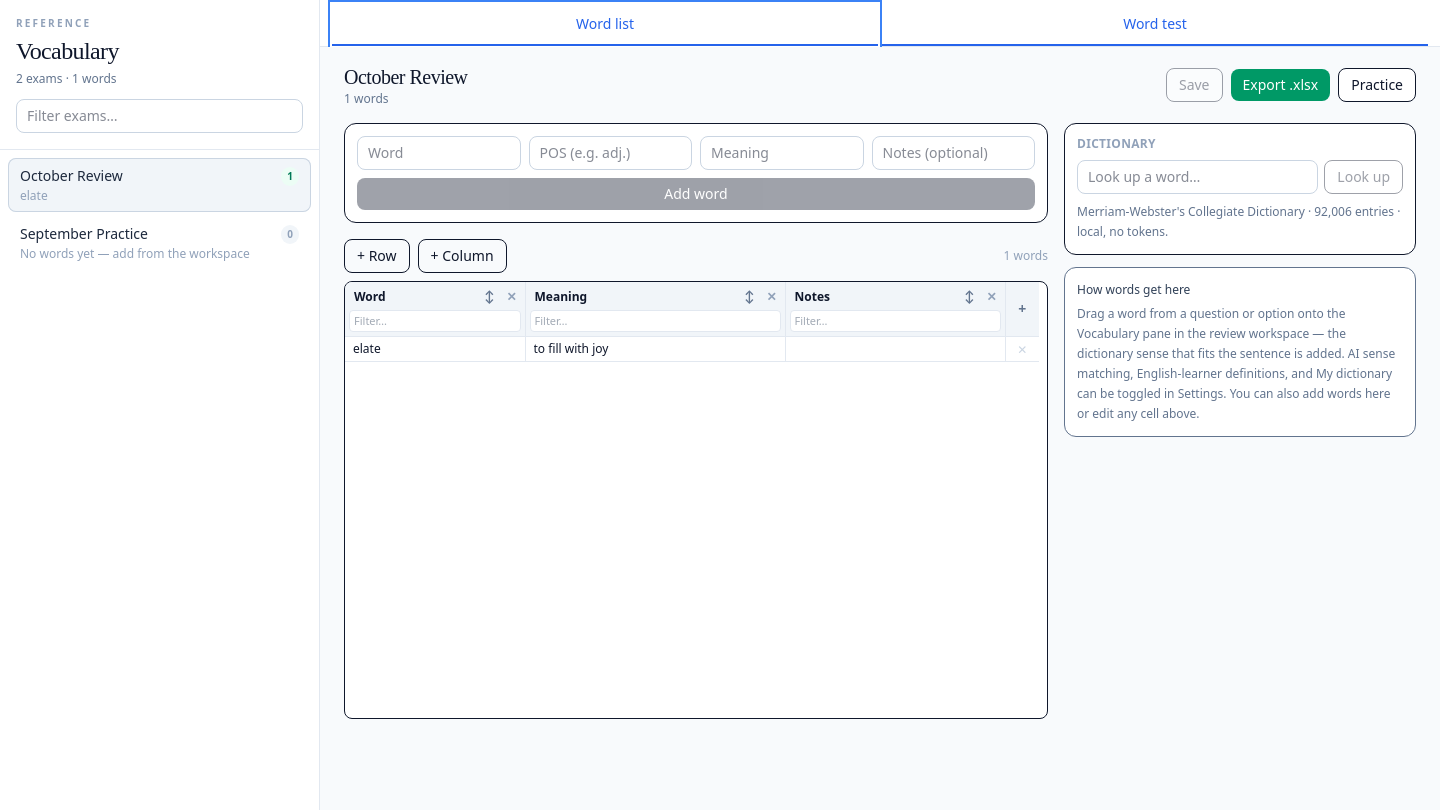
Scenario: VocabularyPage › adds a word manually with POS and meaning
Check: the element with test id "vocab-grid" is shown, box [344, 239, 1048, 719]
Type "lucid" into the field labelled "Word" at x=439, y=153, box [357, 136, 520, 170]
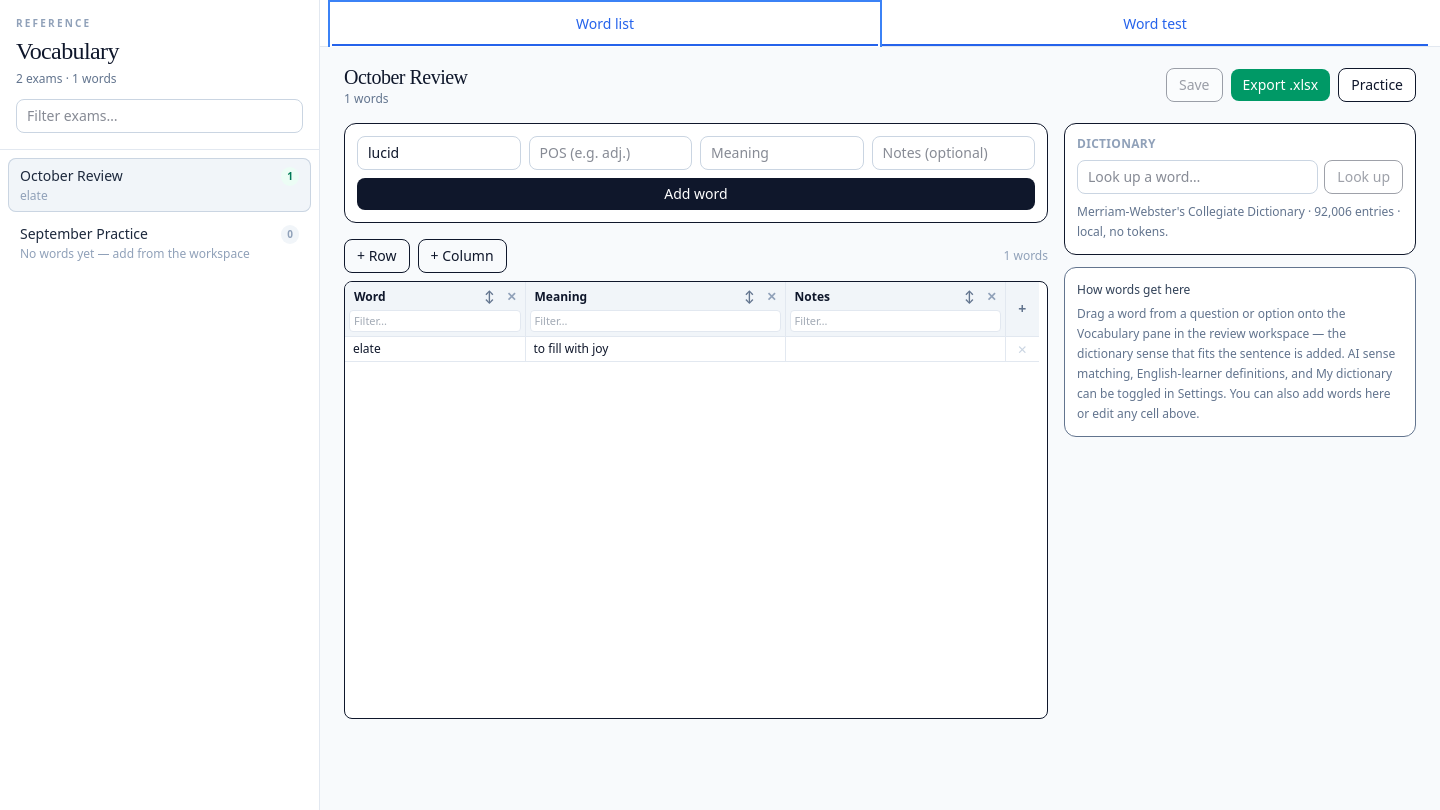
Type "adj." into the field named "Part of speech" at x=610, y=153, box [528, 136, 692, 170]
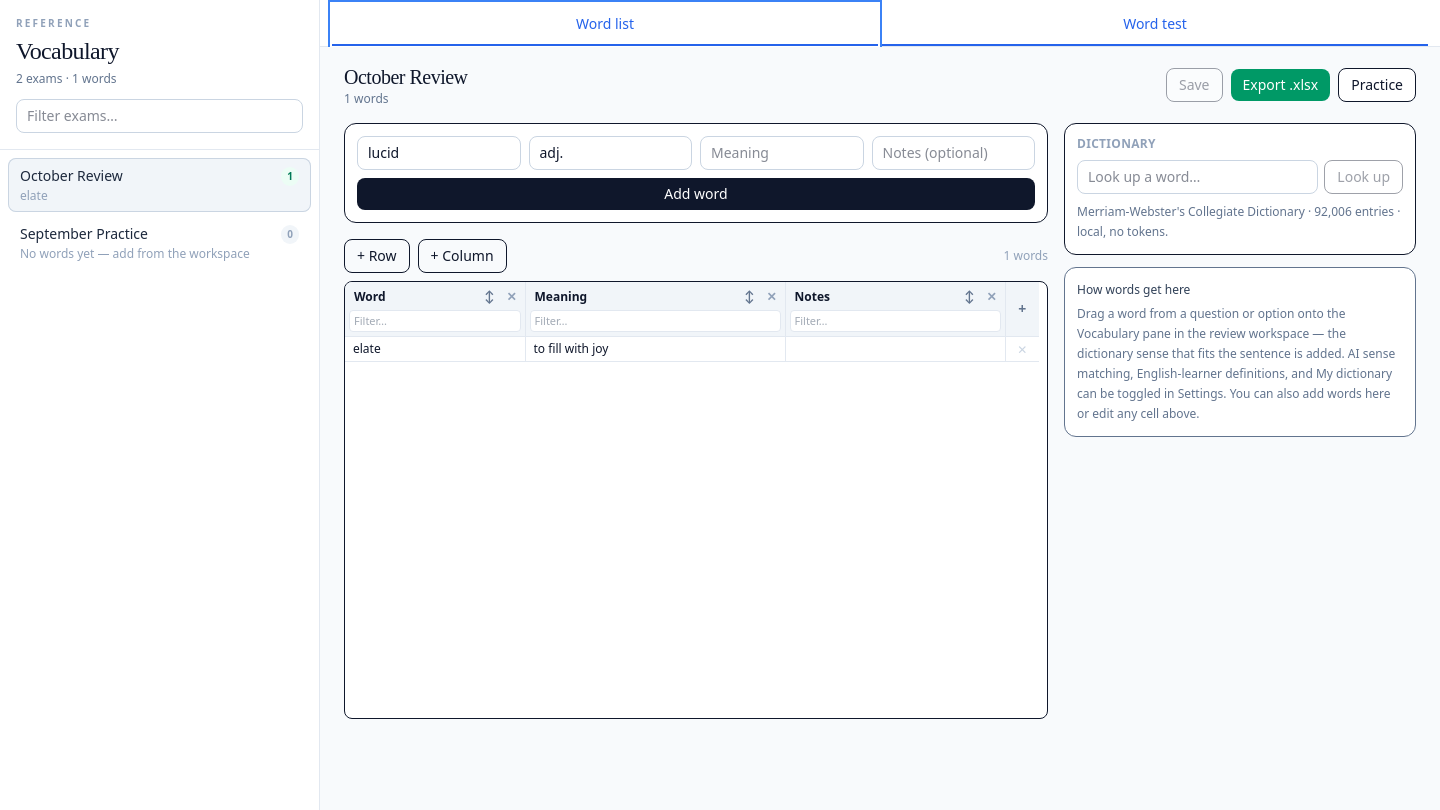
Type "clear" into the field labelled "Meaning" at x=782, y=153, box [700, 136, 864, 170]
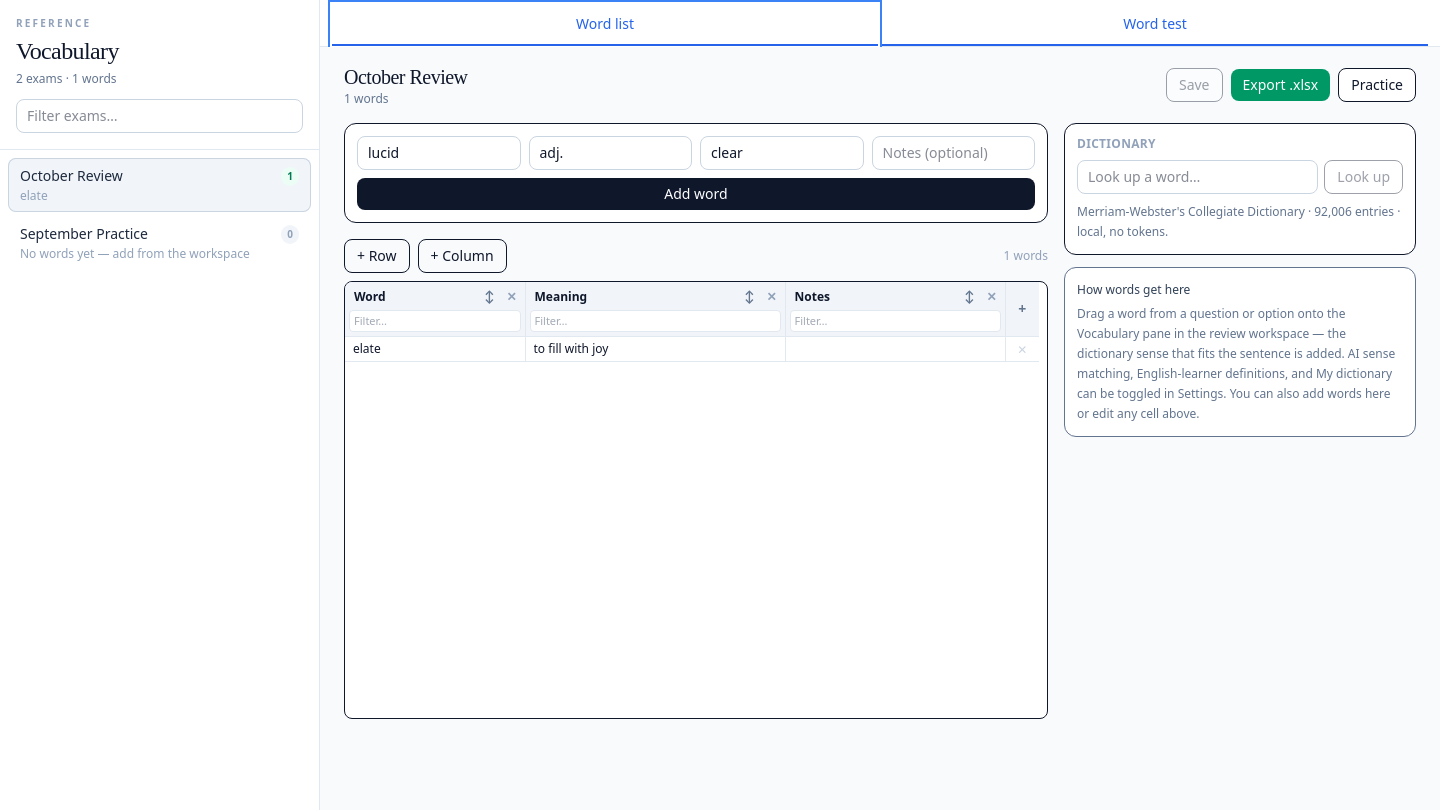
Click the button "Add word" at x=696, y=194, box [357, 178, 1035, 210]
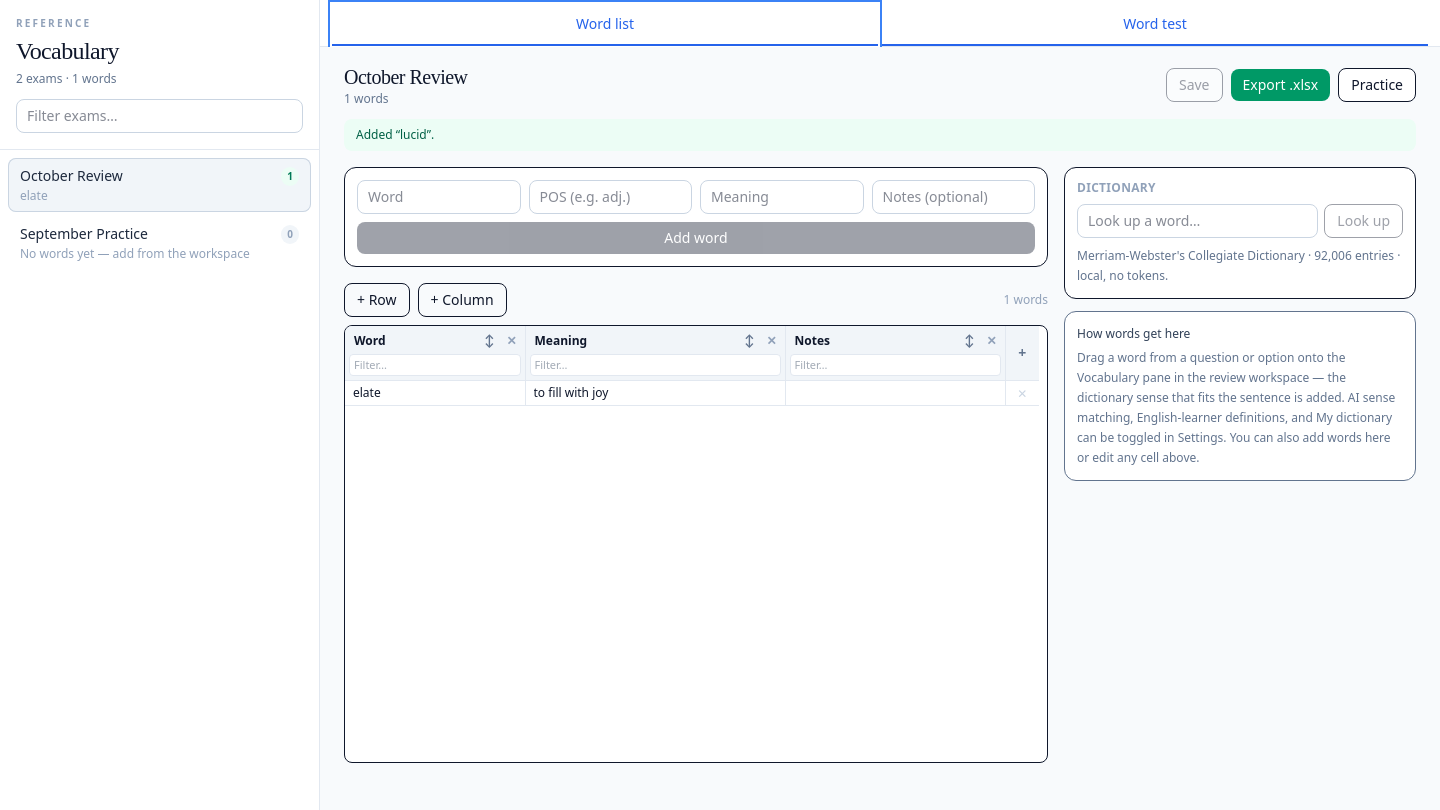
Check: the text "Added “lucid”." is shown, box [344, 119, 1416, 151]
